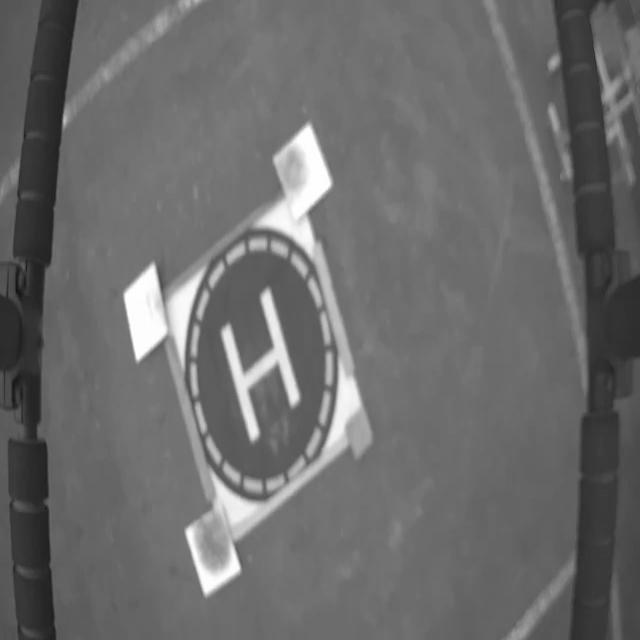Helipad: (218, 285, 302, 444)
